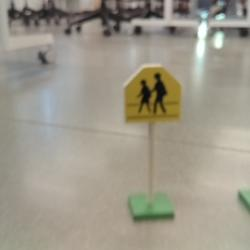school_crossing: (124, 64, 182, 123)
